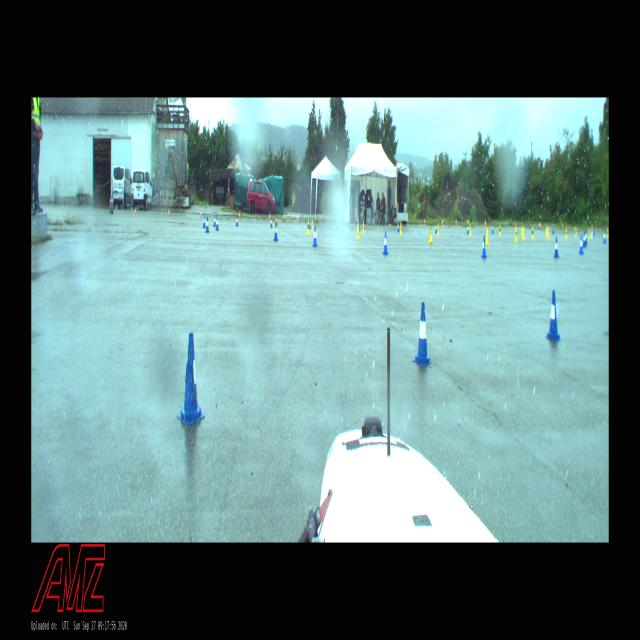blue_cone: (177, 332, 205, 425), (414, 303, 432, 367), (545, 290, 561, 342), (382, 231, 388, 255), (481, 234, 487, 258), (312, 225, 318, 248), (553, 236, 559, 258), (578, 234, 584, 256), (274, 222, 278, 242), (582, 230, 586, 248), (205, 216, 209, 233), (602, 228, 606, 244), (216, 215, 220, 231), (202, 214, 206, 228), (213, 214, 216, 226), (466, 222, 469, 234), (397, 221, 400, 233), (358, 220, 361, 232), (586, 229, 588, 245), (236, 215, 238, 227), (435, 222, 437, 234), (270, 217, 272, 228), (552, 224, 554, 234), (492, 224, 494, 234)
orange_cone: (168, 208, 170, 218), (239, 210, 241, 220), (296, 213, 298, 222), (269, 212, 271, 221), (134, 207, 136, 216), (200, 210, 202, 218), (539, 220, 541, 228), (485, 220, 487, 228), (456, 218, 458, 226), (442, 218, 444, 226), (424, 217, 426, 225), (514, 221, 516, 228)
yellow_cone: (356, 223, 361, 240), (428, 226, 432, 244), (306, 220, 310, 236), (514, 227, 518, 243), (546, 227, 550, 239), (531, 226, 534, 240), (522, 227, 525, 240), (486, 227, 488, 245), (276, 218, 278, 232), (499, 223, 501, 236), (437, 223, 439, 236), (469, 224, 471, 237), (565, 226, 567, 238), (362, 222, 364, 234), (312, 220, 314, 232), (588, 228, 590, 240), (400, 223, 402, 235), (575, 226, 577, 237), (520, 225, 522, 236), (545, 226, 547, 236), (606, 228, 608, 238)
